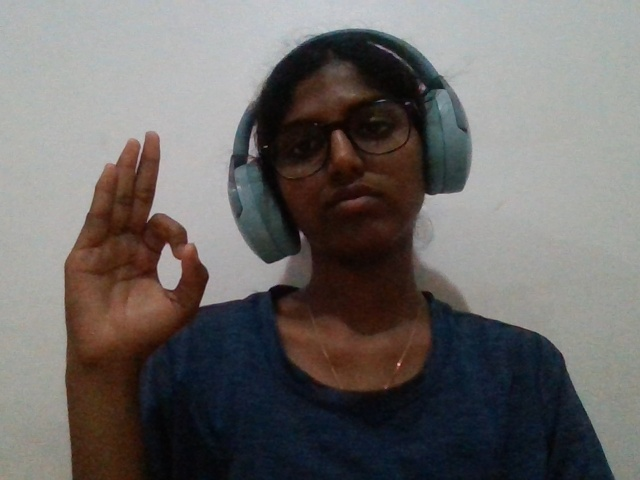F: (53, 124, 256, 480)
